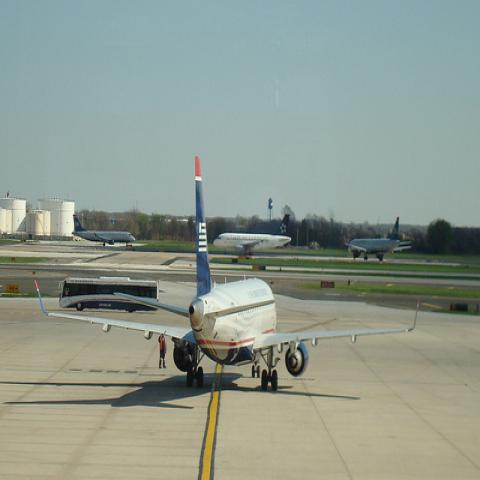bus: (60, 276, 158, 314)
